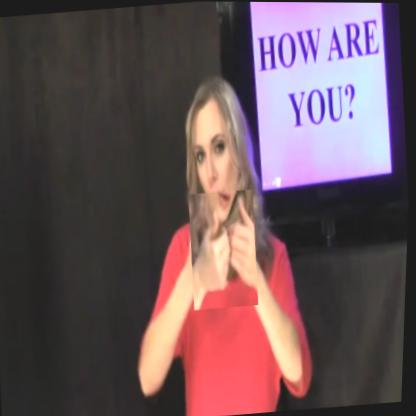HowAreYou: (187, 189, 265, 310)
